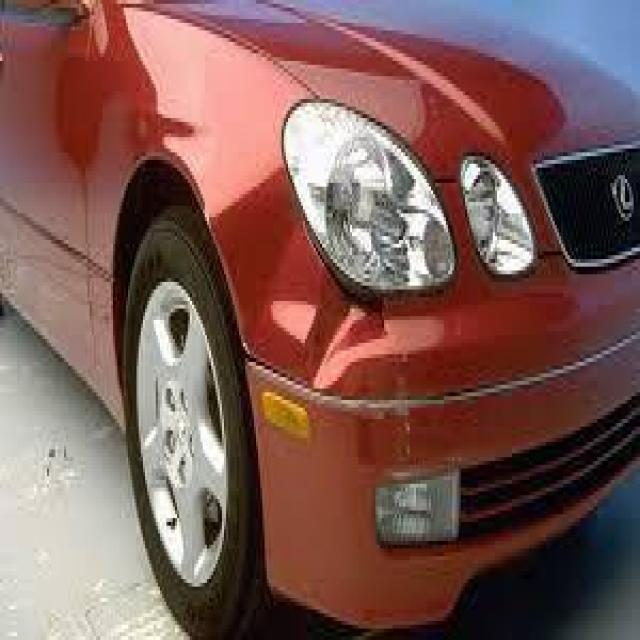damaged: (211, 172, 393, 396)
